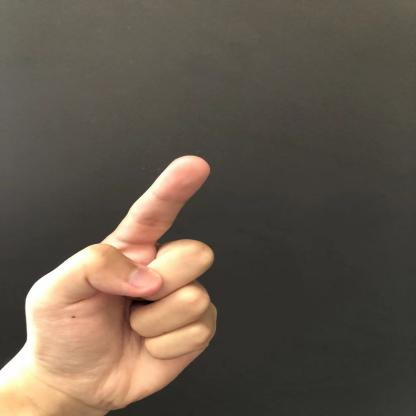finger_point: (122, 118, 212, 258)
